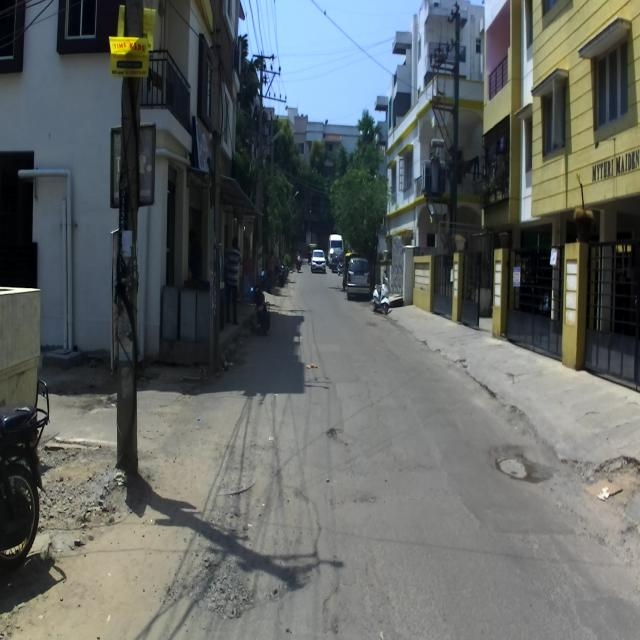electric pole ahead at: (100, 0, 158, 478)
motorcycle ahead at: (0, 375, 54, 562)
